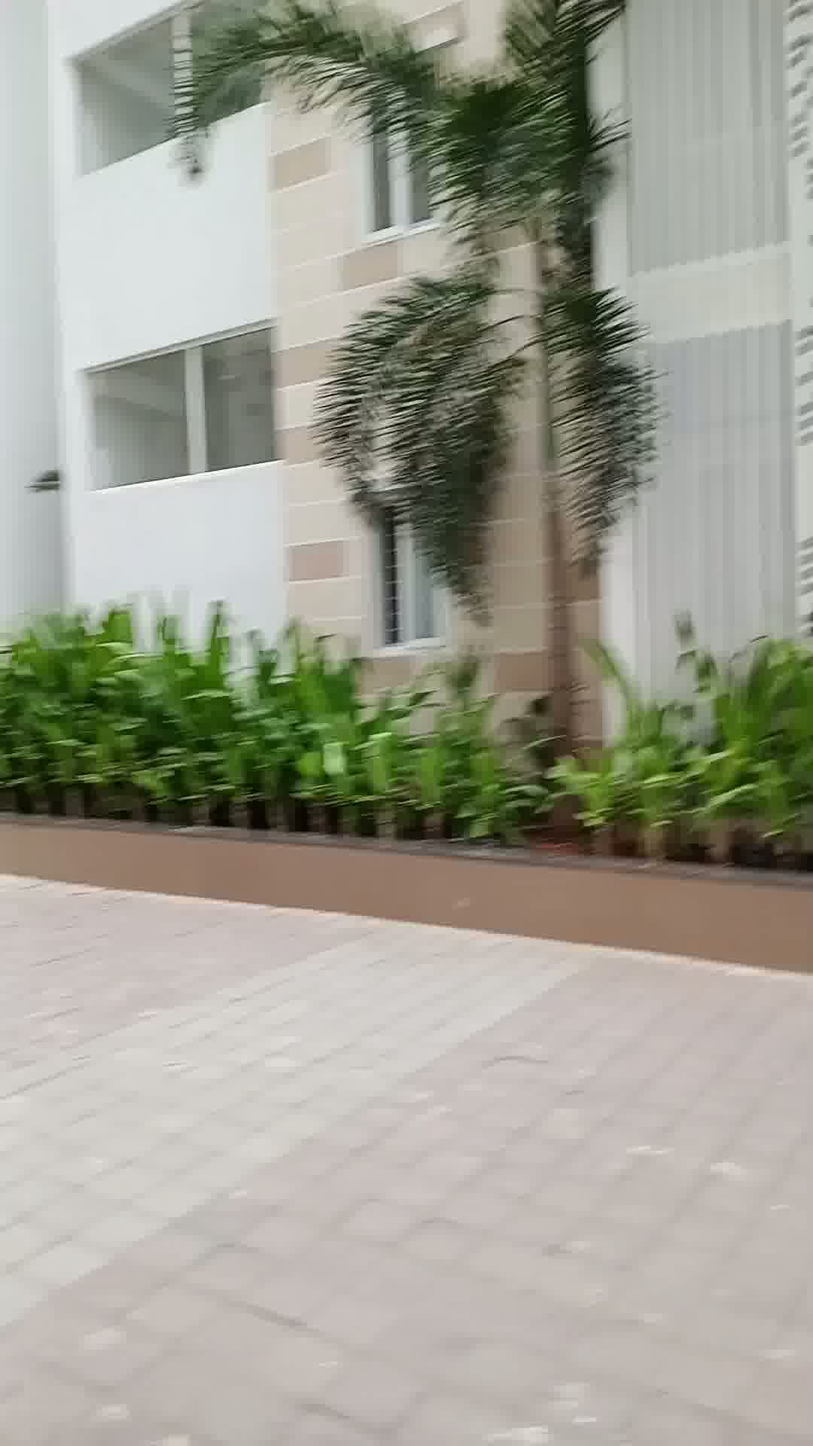tree: (171, 0, 663, 763)
